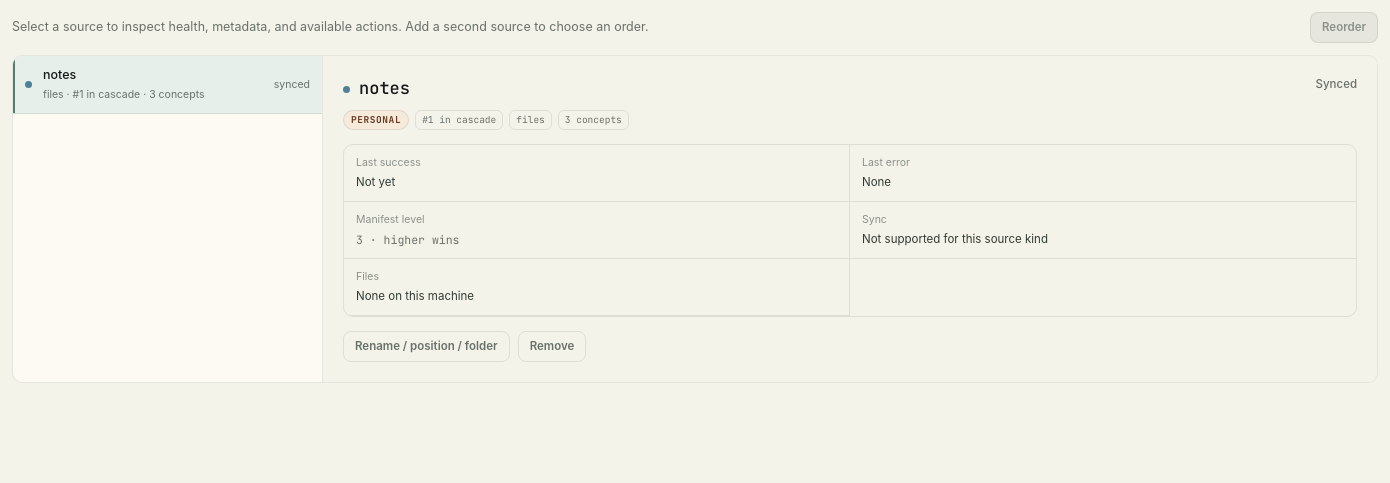
Scenario: Sources remove › renders a failed remove verbatim and stays open
The image size is (1390, 483).
Click the button "Remove" at (552, 347), box x1=518 y1=331 x2=586 y2=362
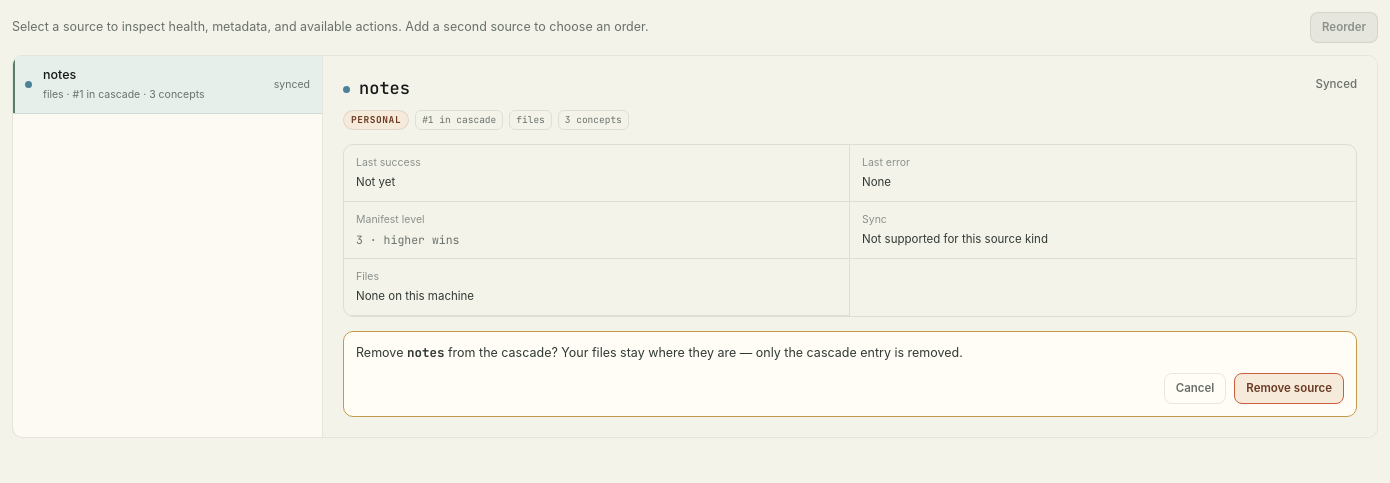
Click the button "Remove source" at (1289, 388), box x1=1234 y1=373 x2=1344 y2=404
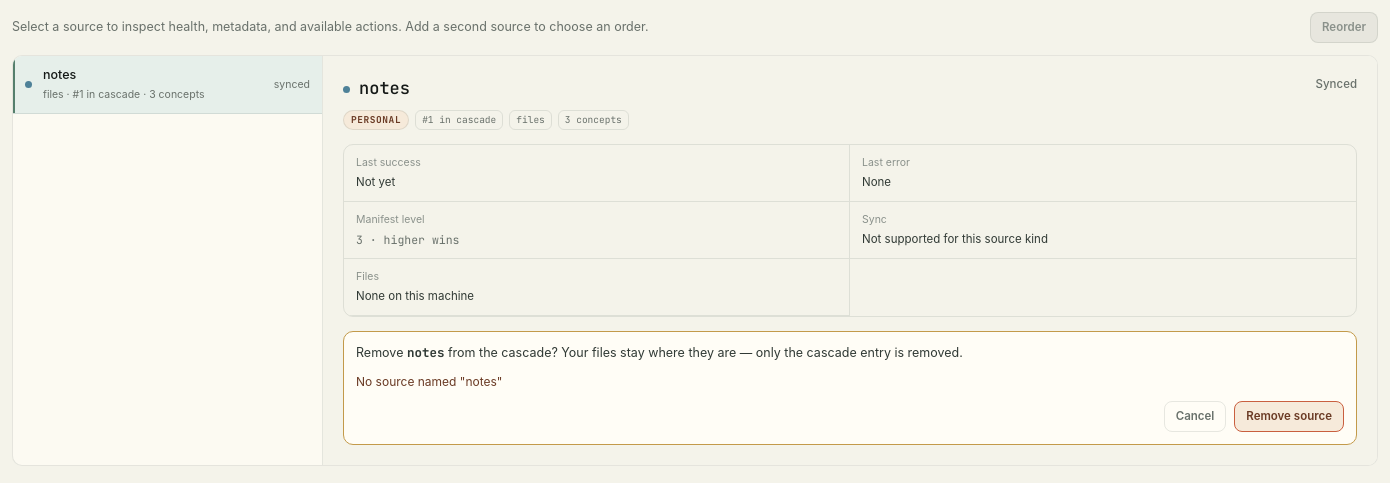
Expected: the text "No source named \"notes\"" is shown, x1=356 y1=374 x2=502 y2=389
